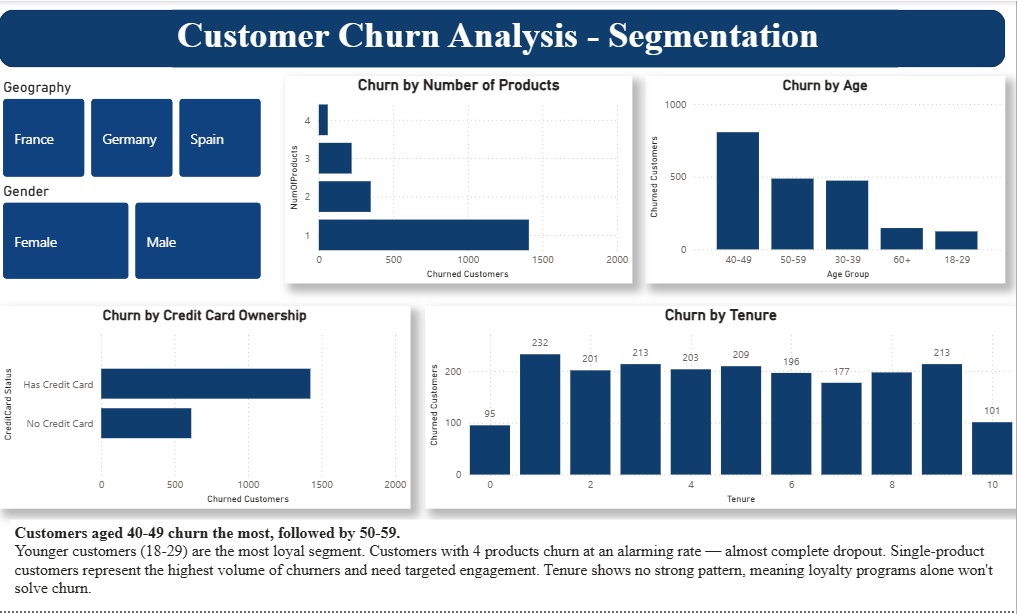

This screenshot's page, from the dashboard's own definition file:
{"tool":"powerbi","page":{"name":"Customer Segmentation ","canvas":[1200,720],"ordinal":1},"visuals":[{"type":"columnChart","title":"Churn by Age","fields":{"Category":["churn_db churn_data.Age Group"],"Y":["churn_db churn_data.Churned Customers"]},"box":[762.3,89.1,424.8,244.6],"z":0},{"type":"clusteredBarChart","title":"Churn by Number of Products","fields":{"Category":["churn_db churn_data.NumOfProducts"],"Y":["churn_db churn_data.Churned Customers"]},"box":[337.5,89.1,409.6,244.6],"z":1000},{"type":"clusteredBarChart","title":" Churn by Credit Card Ownership","fields":{"Category":["churn_db churn_data.CreditCard Status"],"Y":["churn_db churn_data.Churned Customers"]},"box":[0,360.3,485.5,238.9],"z":2000},{"type":"columnChart","title":" Churn by Tenure","fields":{"Category":["churn_db churn_data.Tenure"],"Y":["churn_db churn_data.Churned Customers"]},"box":[502.5,360.3,697.9,238.9],"z":3000},{"type":"shape","box":[0,10.3,1187.3,67.8],"z":4000},{"type":"textbox","box":[205,10.3,855.5,67.8],"z":5000},{"type":"advancedSlicerVisual","fields":{"Values":["churn_db churn_data.Geography"]},"box":[0,92,314,122],"z":6000},{"type":"advancedSlicerVisual","fields":{"Values":["churn_db churn_data.Gender"]},"box":[0,214,314,120],"z":7000},{"type":"textbox","box":[13.3,612.5,1187.1,108.1],"z":7001}]}

Visuals, with their boxes in screenshot pixels (x1, y1, x2, y2), scaled from the page's 1200x720 canvas onto the 1017x614 screenshot:
"Churn by Age" columnChart: 646 76 1006 285
"Churn by Number of Products" clusteredBarChart: 286 76 633 285
" Churn by Credit Card Ownership" clusteredBarChart: 0 307 411 511
" Churn by Tenure" columnChart: 426 307 1016 511
shape: 0 9 1006 67
textbox: 174 9 899 67
advancedSlicerVisual - churn_db churn_data.Geography: 0 78 266 182
advancedSlicerVisual - churn_db churn_data.Gender: 0 182 266 285
textbox: 11 522 1016 613
